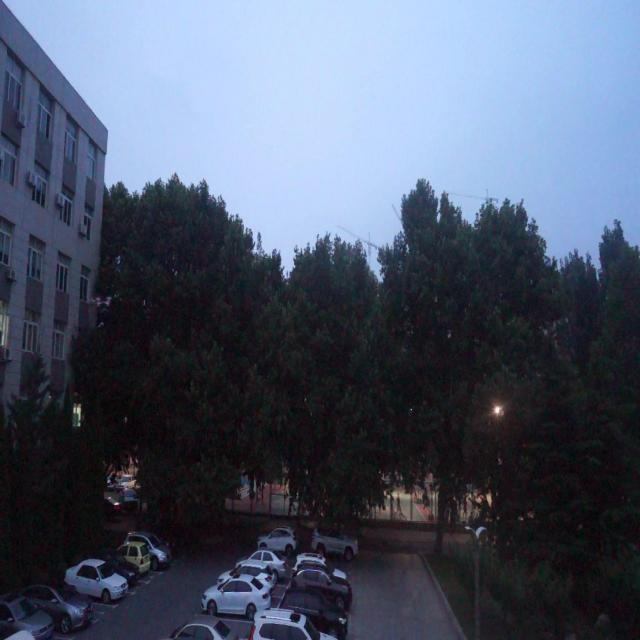UAV: (91, 296, 113, 313)
